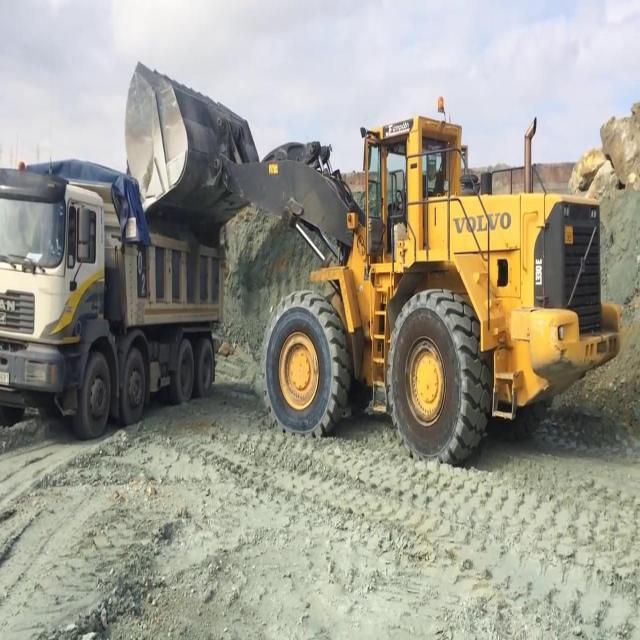Dump Truck: (0, 156, 226, 440)
Loader: (123, 59, 622, 468)
